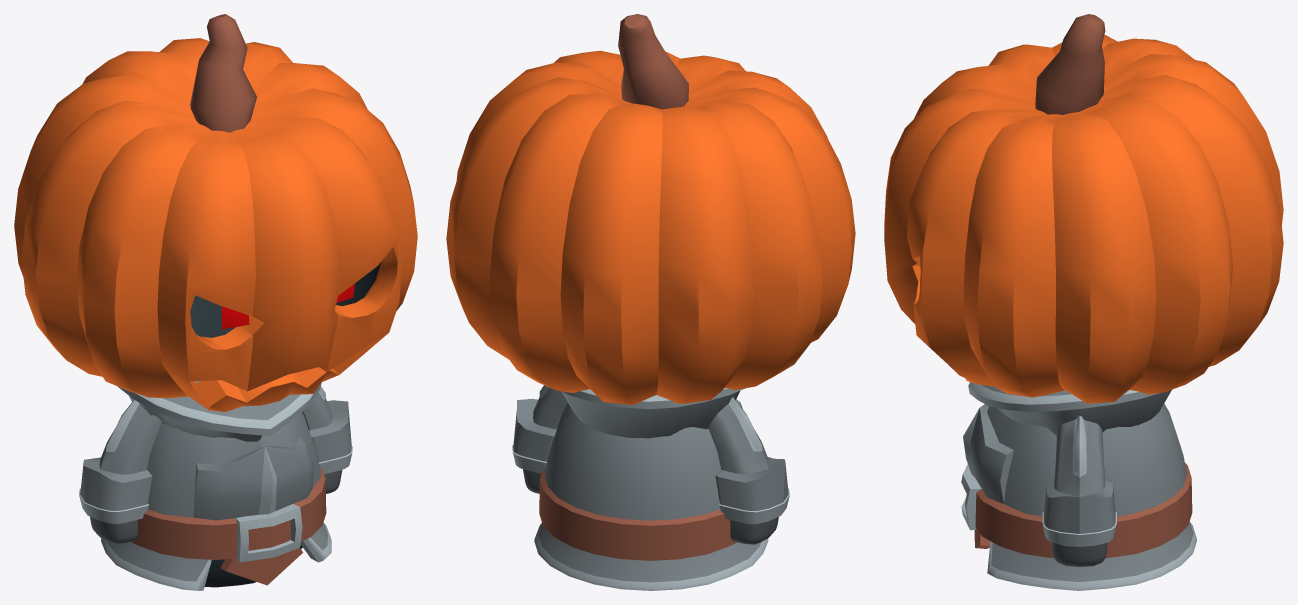
Rendered from SleepyHollow.fbx.
The picture shows the model from 3 angles, left to right: view 1: azimuth 30°, elevation 25°; view 2: azimuth 150°, elevation 25°; view 3: azimuth 270°, elevation 25°; orthographic projection. The views are drawn at different scales.
Parts seen in each view (by area): view 1: character_jackHat, character_knightBody, character_knightArmRight, character_knightArmLeft; view 2: character_jackHat, character_knightBody, character_knightArmRight, character_knightArmLeft; view 3: character_jackHat, character_knightBody, character_knightArmLeft.
Part boxes in pixels (box(x1,y1,x2,y2)): character_jackHat: box(14, 14, 417, 411); character_knightBody: box(101, 381, 331, 590); character_knightArmRight: box(79, 400, 161, 543); character_knightArmLeft: box(302, 386, 352, 493); character_jackHat: box(446, 14, 855, 404); character_knightBody: box(534, 388, 768, 590); character_knightArmRight: box(708, 397, 789, 544); character_knightArmLeft: box(512, 385, 567, 493); character_jackHat: box(884, 14, 1283, 403); character_knightBody: box(961, 382, 1196, 590); character_knightArmLeft: box(1042, 415, 1116, 566).
Size of the model in its own units: 134 by 196 by 130.
